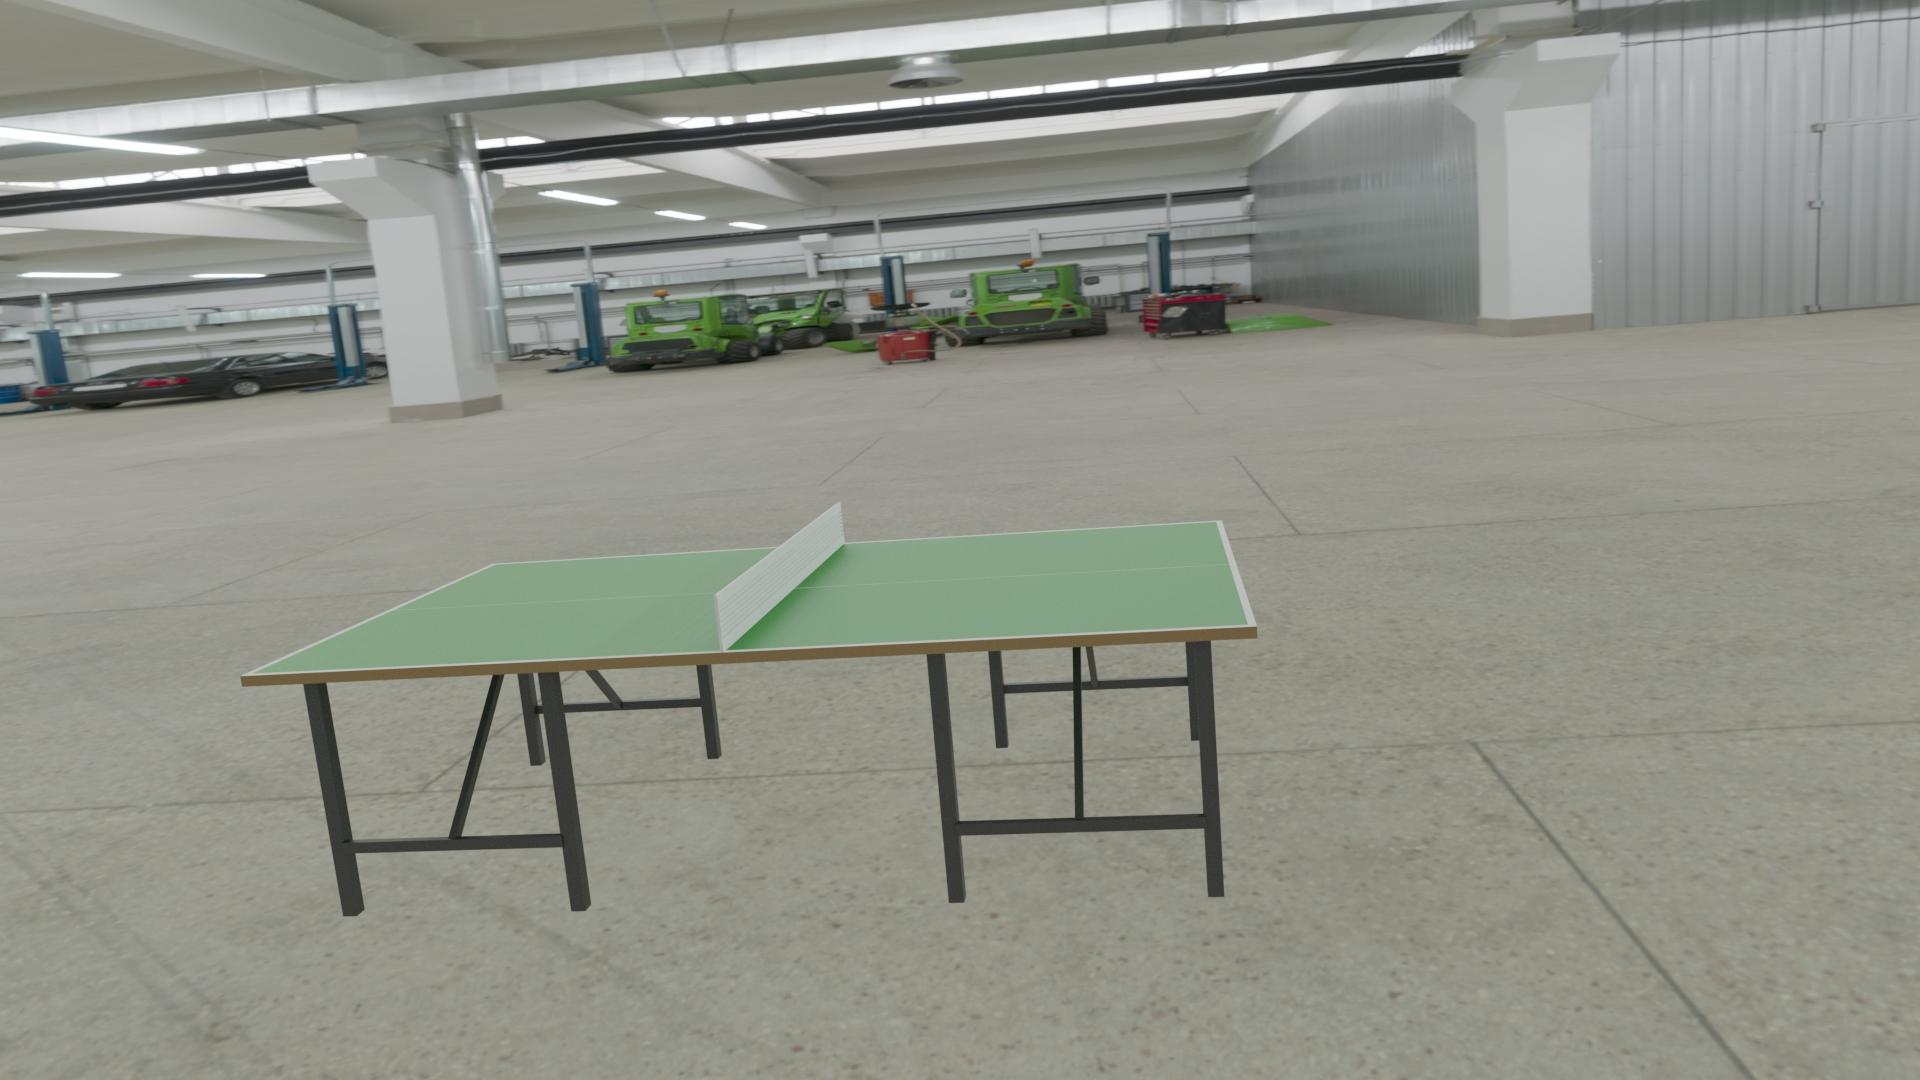table: (252, 522, 1249, 674)
